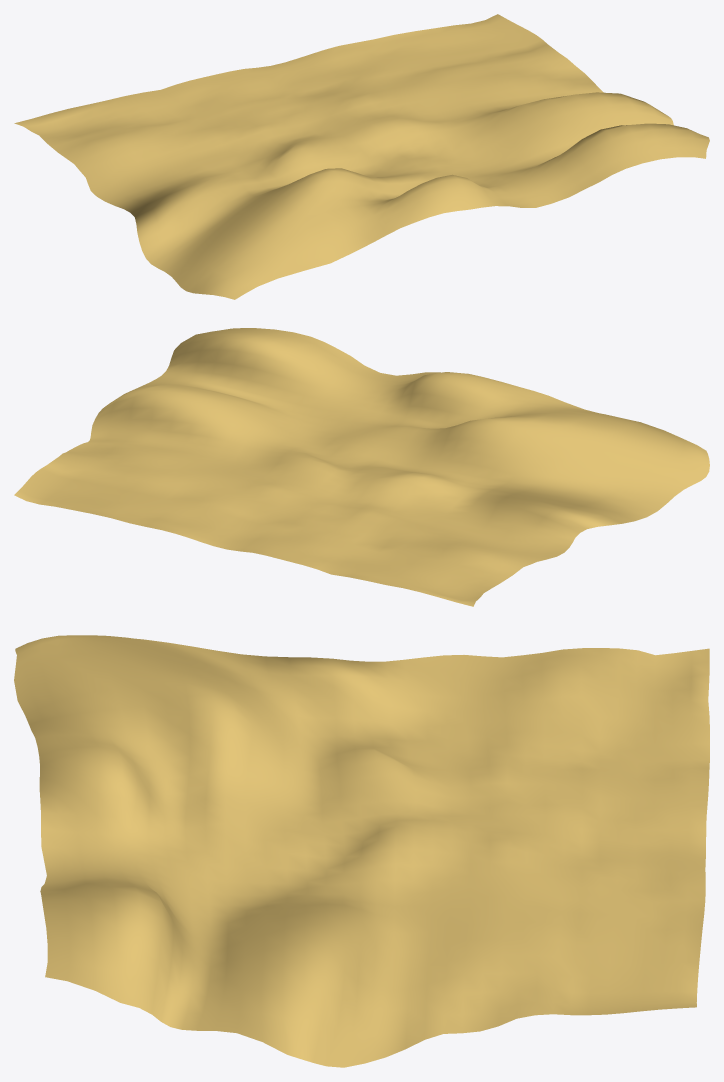
Rendered from Desert_Ground_Mesh.fbx.
3 renders of one model, top to bottom at view 1: azimuth 30°, elevation 25°; view 2: azimuth 150°, elevation 25°; view 3: azimuth 270°, elevation 25°, orthographic. The views are drawn at different scales.
Parts seen in each view (by area): view 1: Desert_Ground_Mesh; view 2: Desert_Ground_Mesh; view 3: Desert_Ground_Mesh.
Part boxes in pixels (left/top/right/bottom): Desert_Ground_Mesh: left=14, top=14, right=709, bottom=299; Desert_Ground_Mesh: left=14, top=328, right=709, bottom=606; Desert_Ground_Mesh: left=14, top=635, right=709, bottom=1067.
Size of the model in its own units: 299 by 32.69 by 217.
